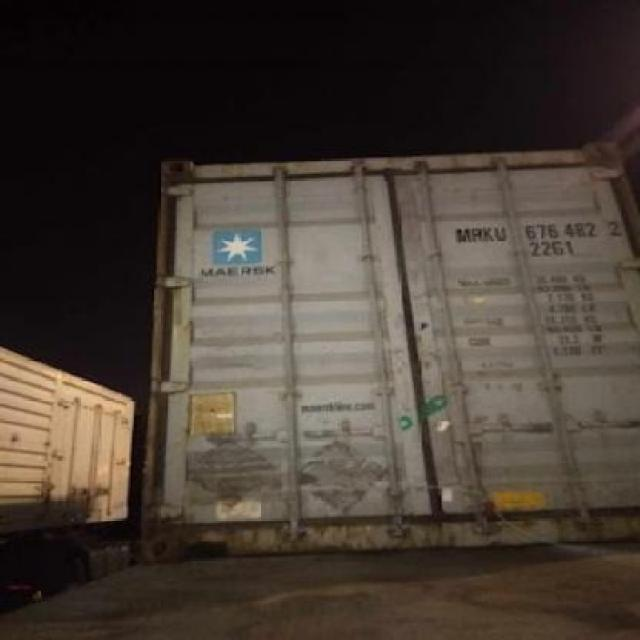ISO: (534, 240, 574, 259)
container_number: (459, 219, 621, 241)
